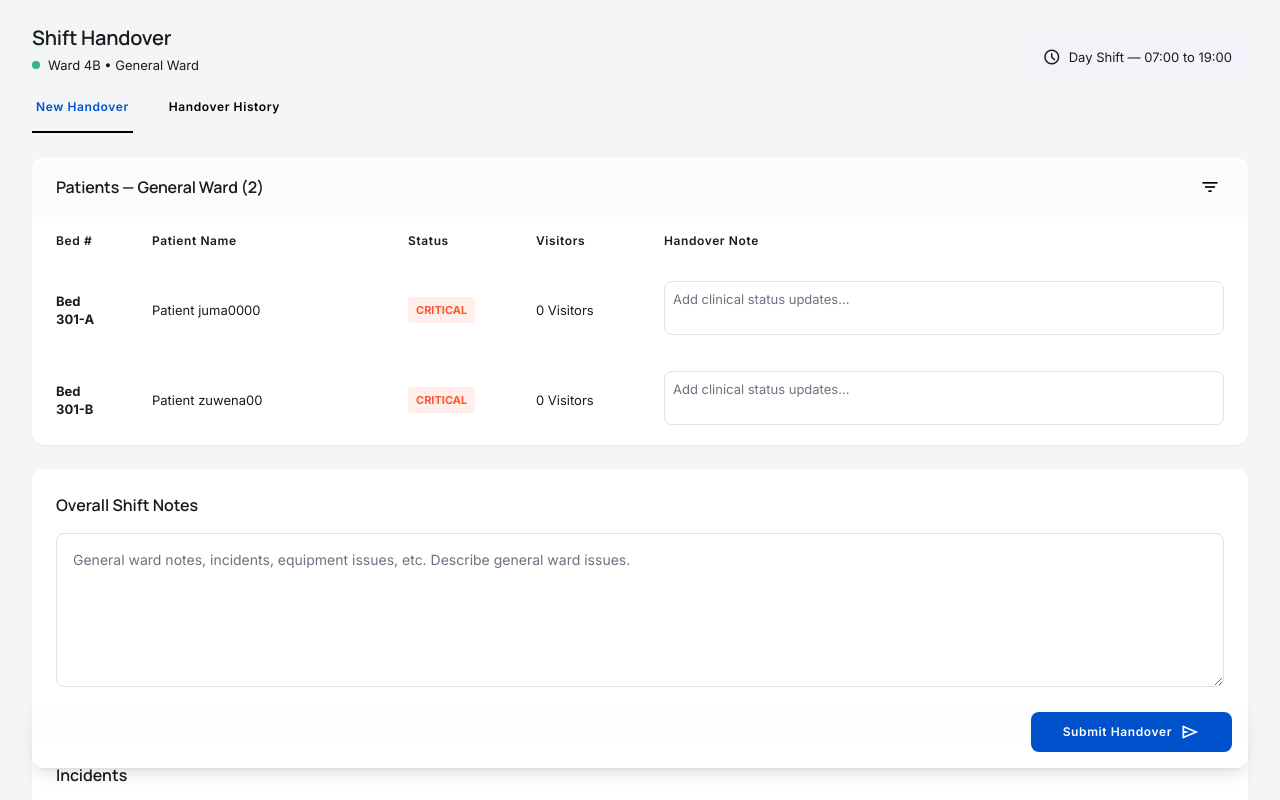
ShiftHandoverPage › submits shift handover details and validates fields
Expected: the text "Patient juma0000" is shown, [128,265,384,355]
Replace the text in the text box with placeholder "describe general ward issues" with "Shift was calm. No major incidents." at [640, 610], box [56,533,1224,687]
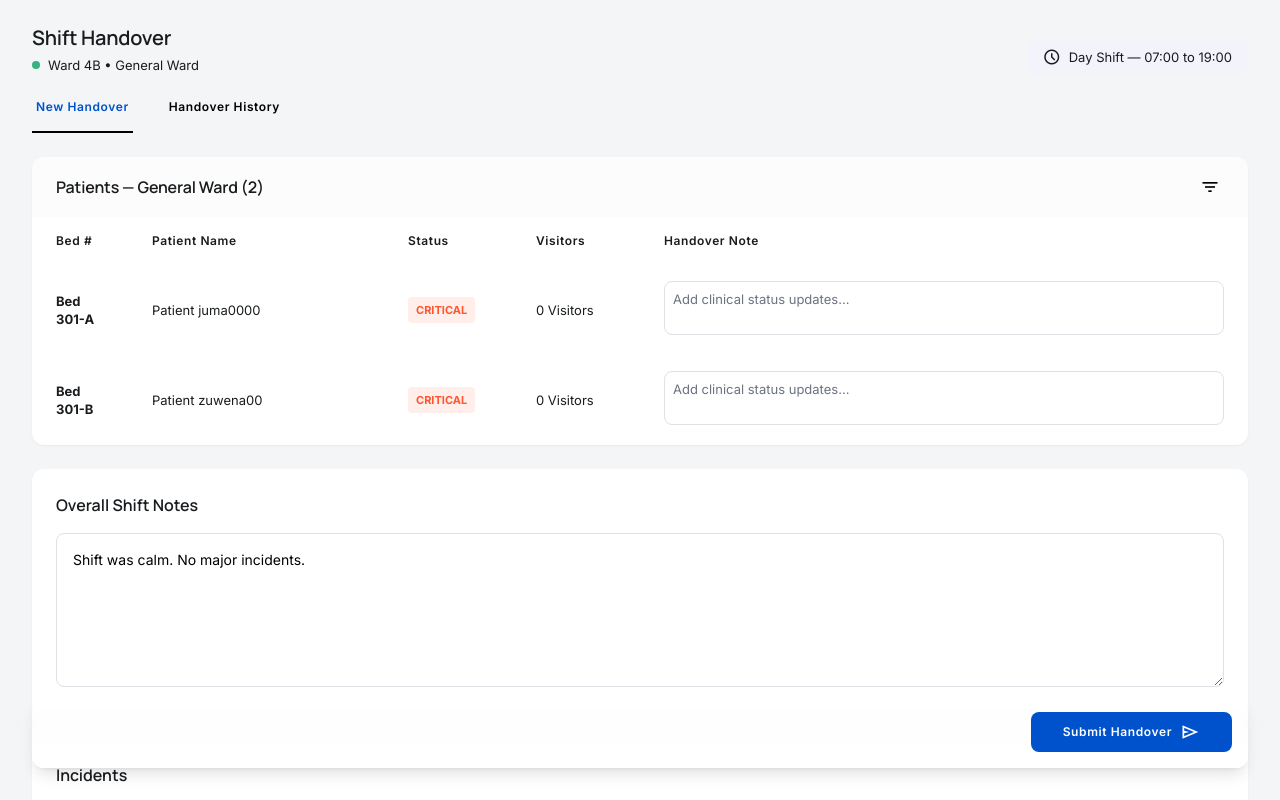
Click the button "Submit Handover" at [1131, 732], box [1031,712,1232,752]
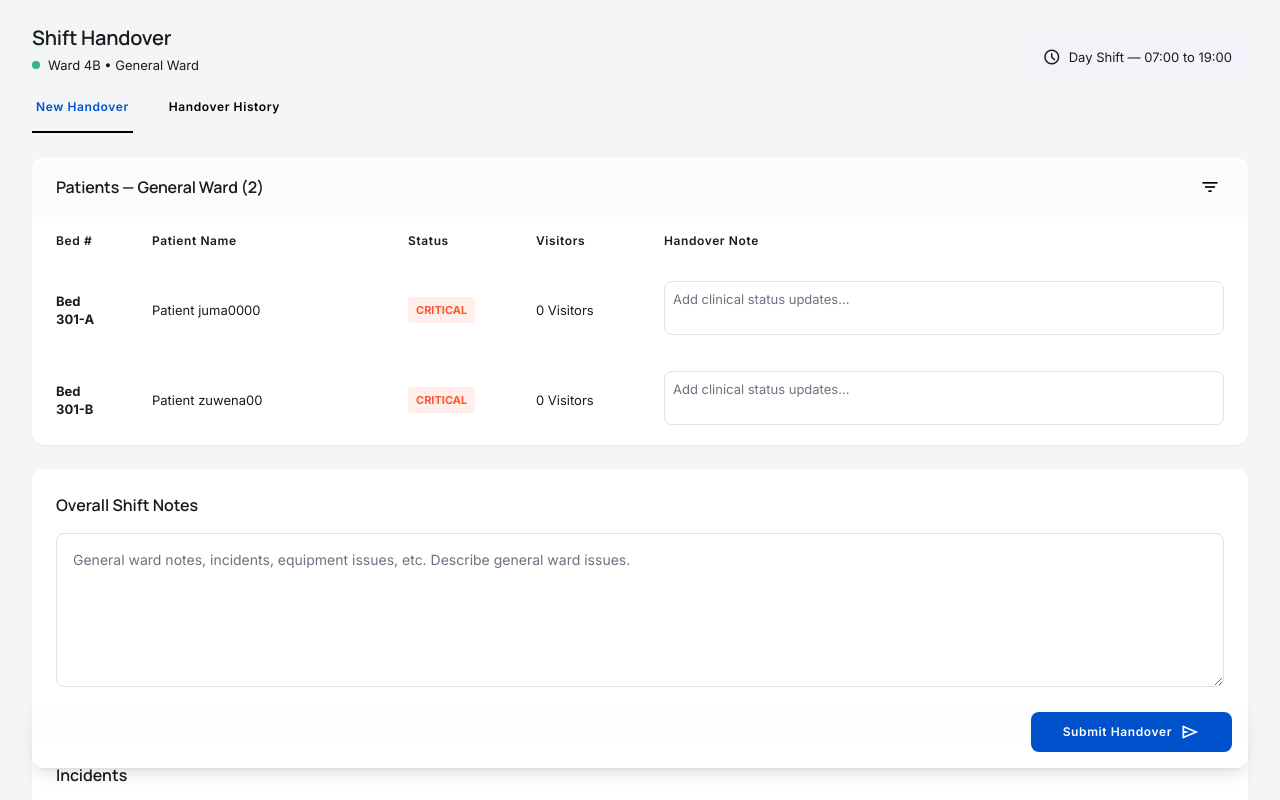
Click the button "Handover History" at [224, 116], box [165,98,284,133]
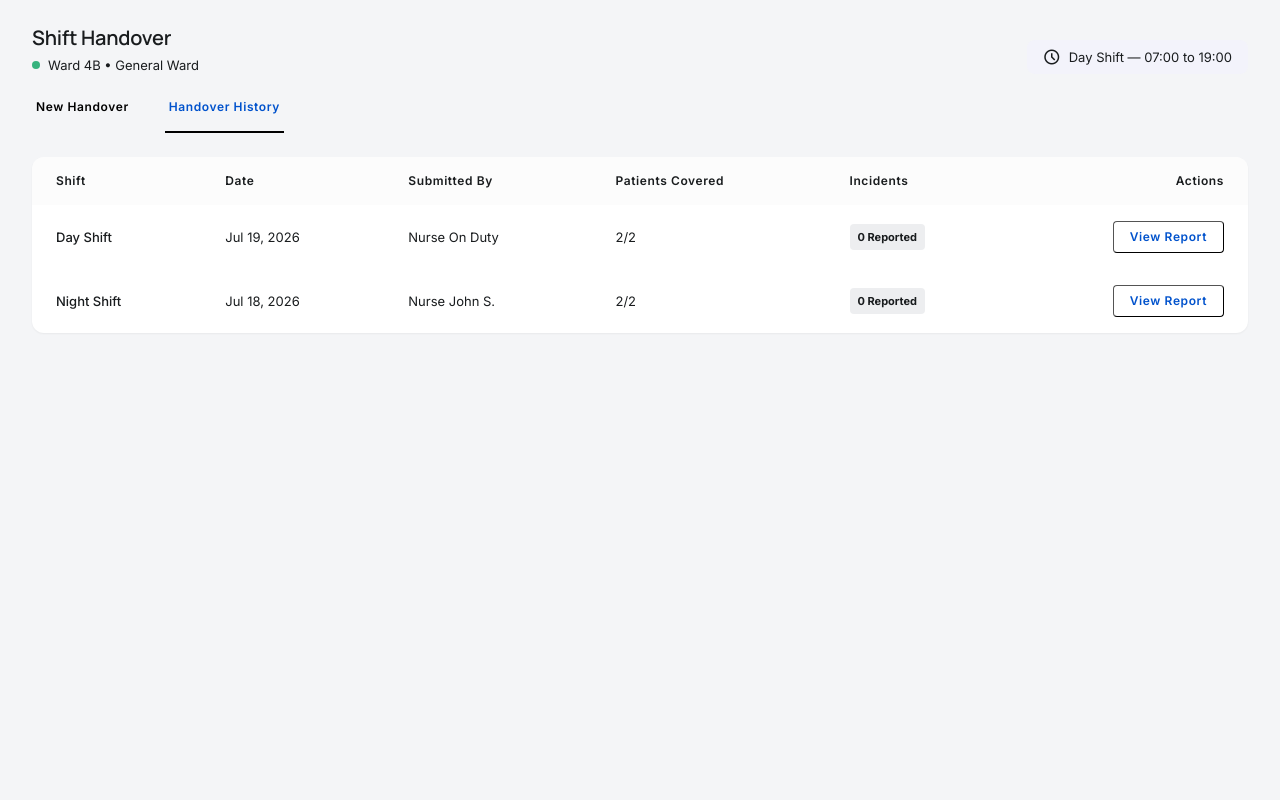
Result: the text "Nurse On Duty" is shown at [384,205,592,269]
